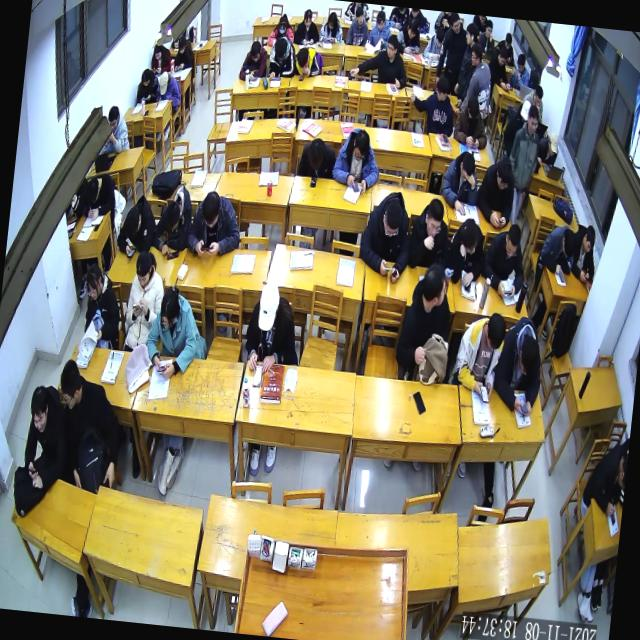bow: (149, 180, 196, 263), (444, 214, 488, 294), (114, 191, 160, 262), (536, 220, 578, 276), (80, 167, 118, 224), (297, 133, 338, 181), (264, 34, 298, 84), (238, 37, 270, 83), (292, 42, 325, 80), (266, 11, 296, 49), (535, 129, 561, 166), (422, 24, 446, 61)
down: (256, 280, 282, 332), (26, 382, 52, 434), (158, 286, 184, 332), (516, 334, 542, 380), (483, 310, 508, 356), (422, 196, 446, 242), (457, 216, 482, 256), (132, 249, 155, 292), (380, 198, 403, 239), (200, 188, 222, 230), (82, 262, 104, 302), (502, 221, 522, 260), (350, 127, 371, 164), (493, 156, 513, 193), (456, 150, 476, 186), (306, 136, 326, 172), (162, 200, 182, 234), (559, 227, 578, 261), (124, 206, 142, 240), (580, 222, 596, 256), (84, 173, 101, 204), (106, 102, 120, 132), (466, 95, 480, 124), (272, 36, 288, 61), (546, 132, 560, 160), (296, 44, 310, 70), (157, 68, 170, 95), (405, 16, 419, 40), (249, 40, 262, 64), (531, 85, 543, 109), (496, 46, 509, 68), (433, 26, 445, 49), (139, 66, 151, 88), (176, 33, 188, 54), (276, 14, 288, 35), (514, 53, 526, 74), (374, 10, 386, 30), (327, 10, 338, 30), (152, 41, 163, 60), (303, 7, 313, 27), (504, 30, 513, 50)
lookup: (56, 358, 85, 412), (524, 102, 541, 136), (354, 4, 366, 26), (484, 18, 494, 38)
sit: (47, 357, 132, 495), (392, 256, 457, 384), (142, 281, 204, 384), (241, 278, 305, 376), (489, 312, 548, 417), (19, 381, 73, 494), (356, 186, 416, 284), (448, 304, 508, 397), (120, 246, 169, 357), (501, 100, 543, 227), (183, 186, 244, 262), (78, 260, 128, 352), (478, 220, 530, 300), (404, 195, 454, 278), (348, 28, 412, 88), (578, 443, 628, 519), (331, 124, 384, 194), (473, 152, 518, 228), (408, 72, 458, 137), (456, 40, 496, 120), (437, 148, 482, 218), (434, 12, 469, 92), (452, 20, 481, 109), (450, 92, 490, 152), (567, 220, 600, 286), (100, 102, 135, 156), (484, 44, 514, 94), (292, 5, 322, 47), (154, 70, 183, 112), (344, 2, 370, 48), (394, 15, 422, 56), (366, 8, 394, 48), (135, 65, 160, 108), (521, 83, 546, 123), (172, 32, 196, 73), (317, 9, 344, 45), (148, 40, 174, 76), (510, 51, 532, 91), (476, 17, 498, 55), (496, 31, 516, 68)
